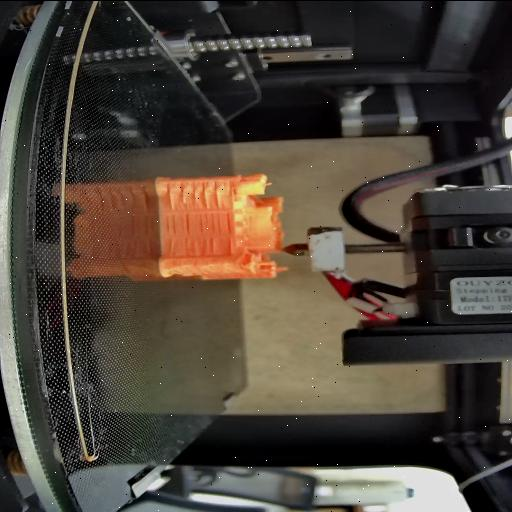cracks: (166, 180, 222, 210), (168, 211, 220, 233), (166, 236, 216, 258), (224, 236, 236, 254), (224, 211, 234, 232)
